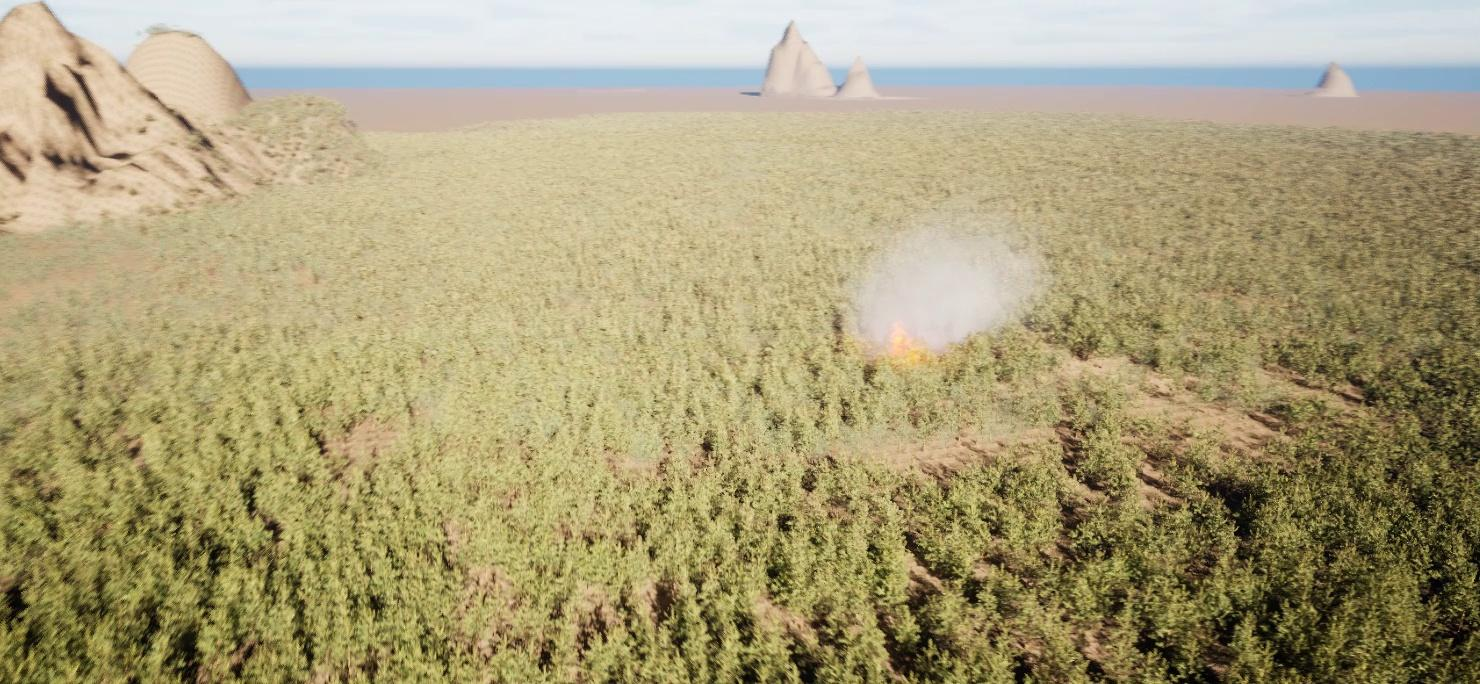fire: (884, 315, 925, 353)
smoke: (857, 203, 1047, 353)
